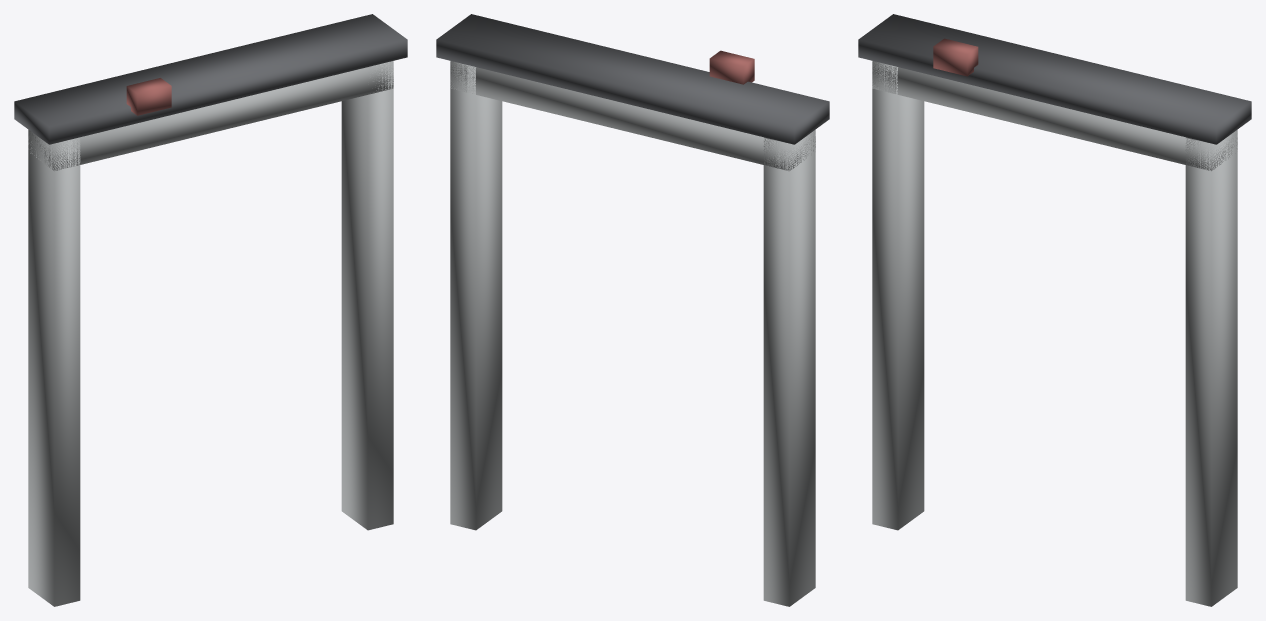
Rendered from doorway_fire_rated_w152_h220_d24.glb.
3 views of the same model, side by side, from view 1: azimuth 30°, elevation 25°; view 2: azimuth 150°, elevation 25°; view 3: azimuth 330°, elevation 25° (orthographic).
Parts seen in each view (by area): view 1: world; view 2: world; view 3: world.
Part boxes in pixels (box(x1,y1,x2,y2)): world: box(14, 14, 407, 606); world: box(436, 14, 829, 606); world: box(858, 14, 1251, 606).
Bounding box in the file's own units: 1.89 × 2.54 × 0.38.
